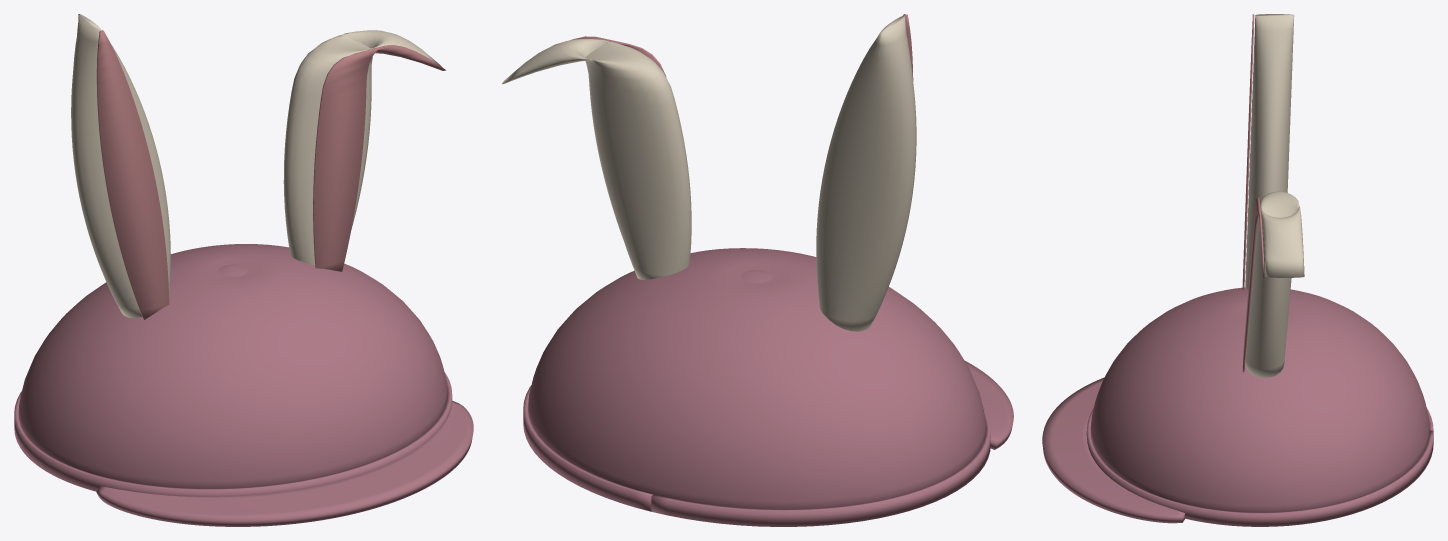
Rendered from goose-headwear-bunny.glb.
3 views of the same model, side by side, from view 1: azimuth 30°, elevation 25°; view 2: azimuth 150°, elevation 25°; view 3: azimuth 270°, elevation 25° (orthographic). The views are drawn at different scales.
Visible parts, largest first — view 1: goose_headwear_bunny_mesh; view 2: goose_headwear_bunny_mesh; view 3: goose_headwear_bunny_mesh.
Boxes of the visible parts, left/top/right/bottom form: goose_headwear_bunny_mesh: left=14, top=14, right=473, bottom=526; goose_headwear_bunny_mesh: left=502, top=14, right=1013, bottom=526; goose_headwear_bunny_mesh: left=1042, top=14, right=1433, bottom=526.
Size of the model in its own units: 1 by 0.996 by 0.9444.
